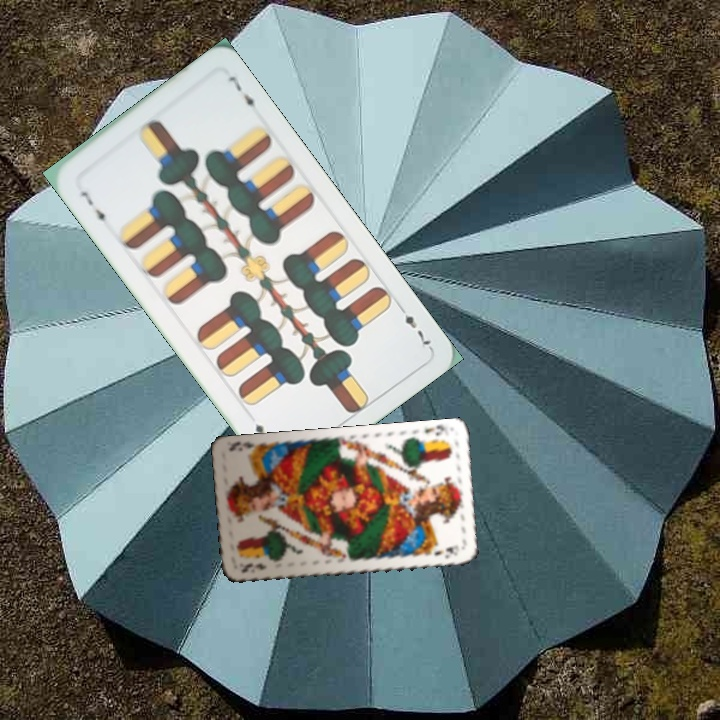E7: (394, 300, 433, 351), (76, 186, 109, 230)
EK: (235, 559, 269, 575), (420, 422, 448, 438)
